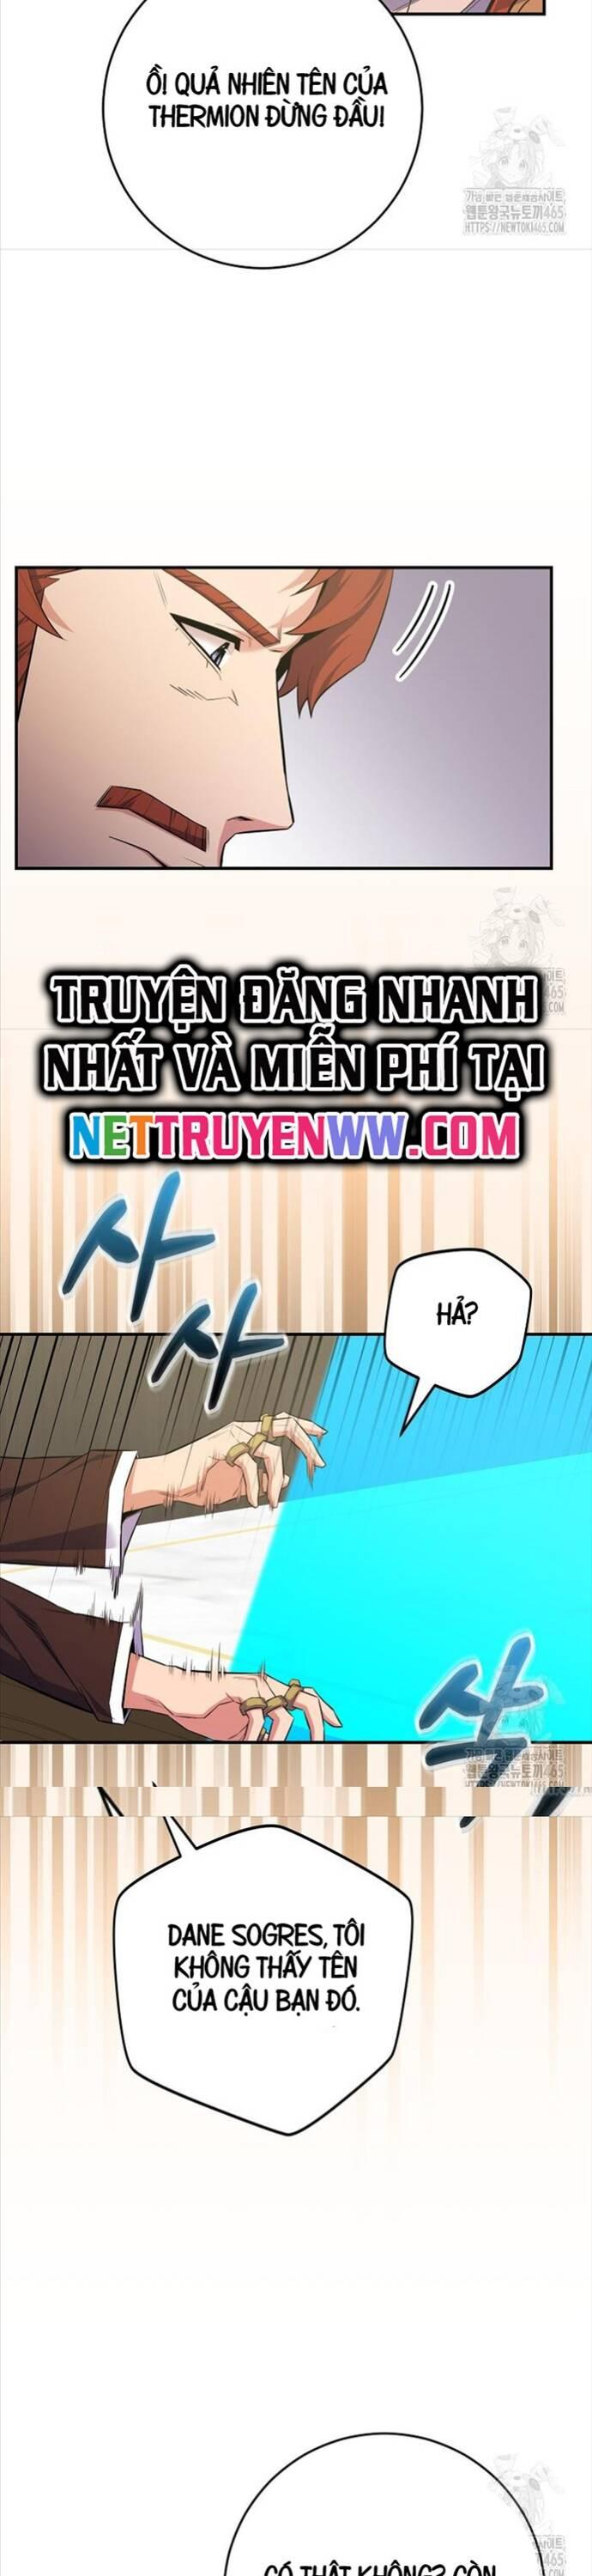quangcao: (39, 953, 558, 1163)
